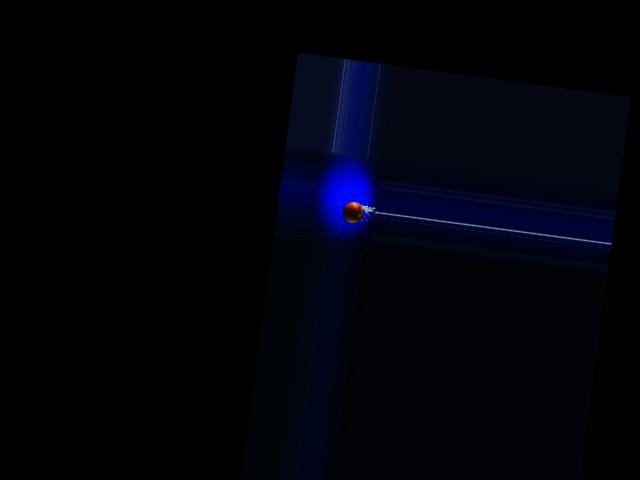tomato: (341, 200, 364, 225)
